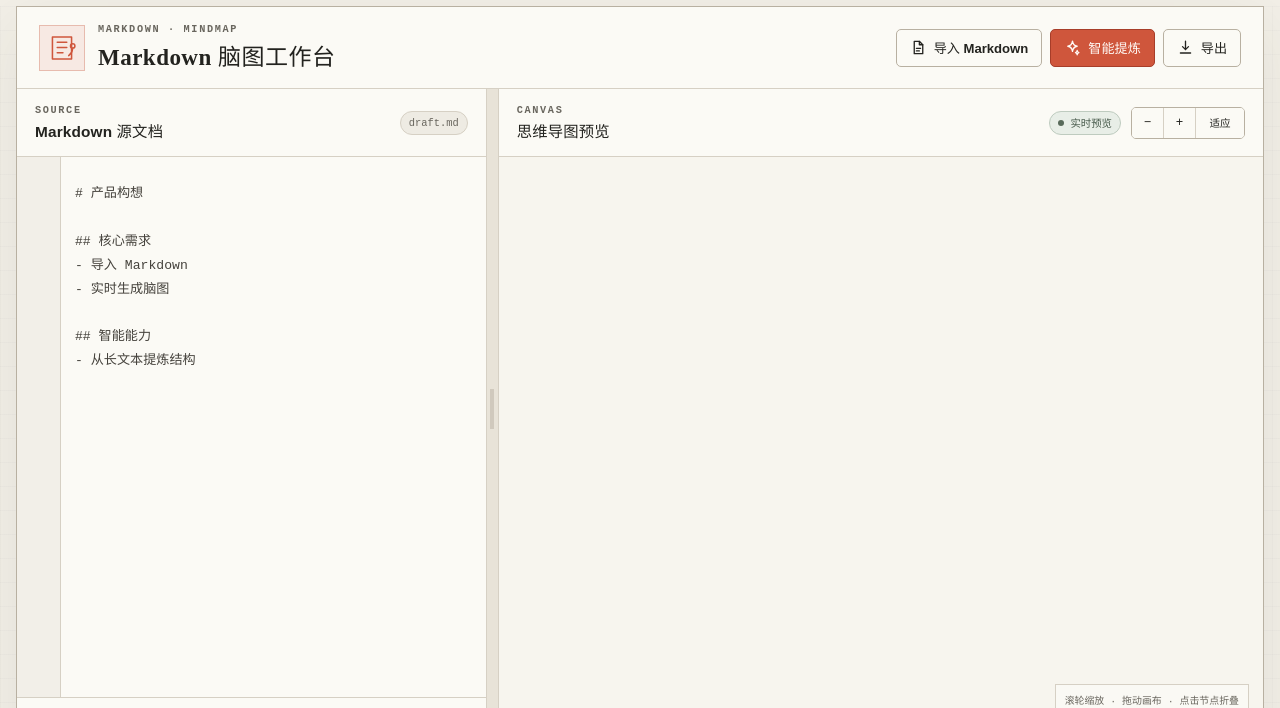
应用工作台 › 将当前原文导出为 Markdown 文件
The image size is (1280, 708).
Step 1. Replace the text in the text box named "Markdown 编辑器" with "# 待导出的内容" → {"x": 251, "y": 427}, box left=17, top=157, right=486, bottom=697
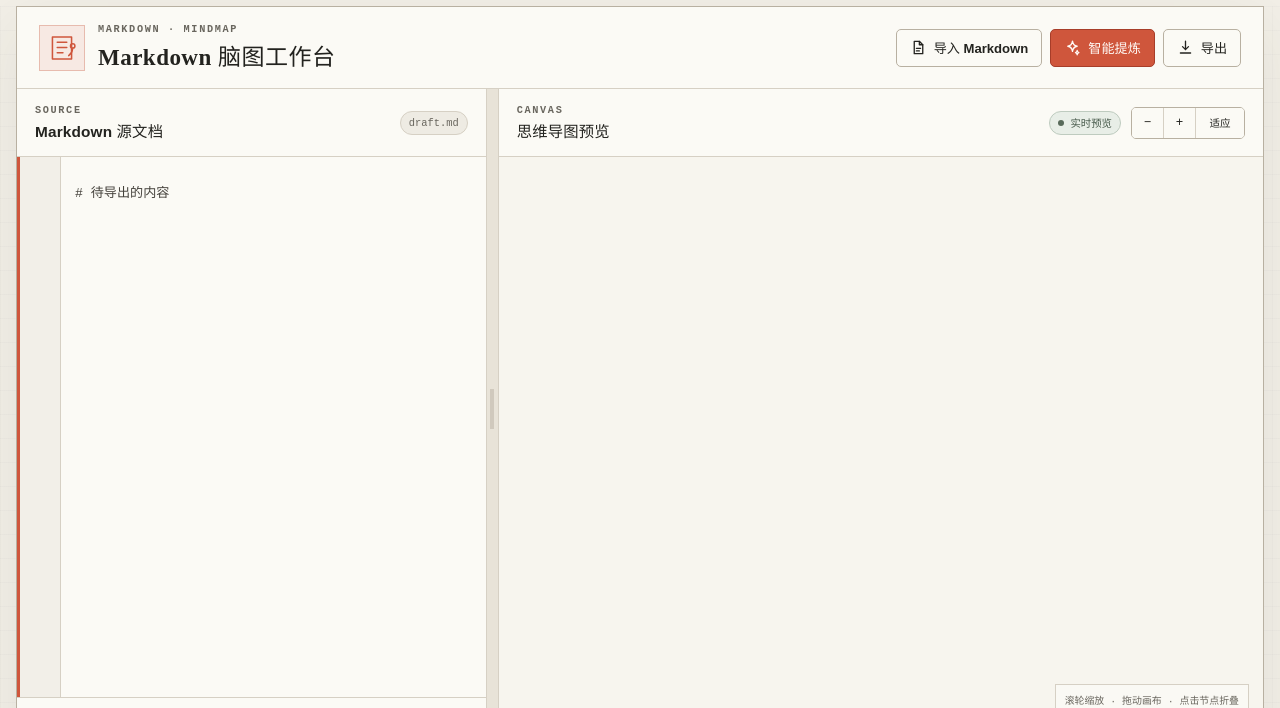
Step 2. Click the button "导出" → {"x": 1202, "y": 48}, box left=1163, top=28, right=1241, bottom=66
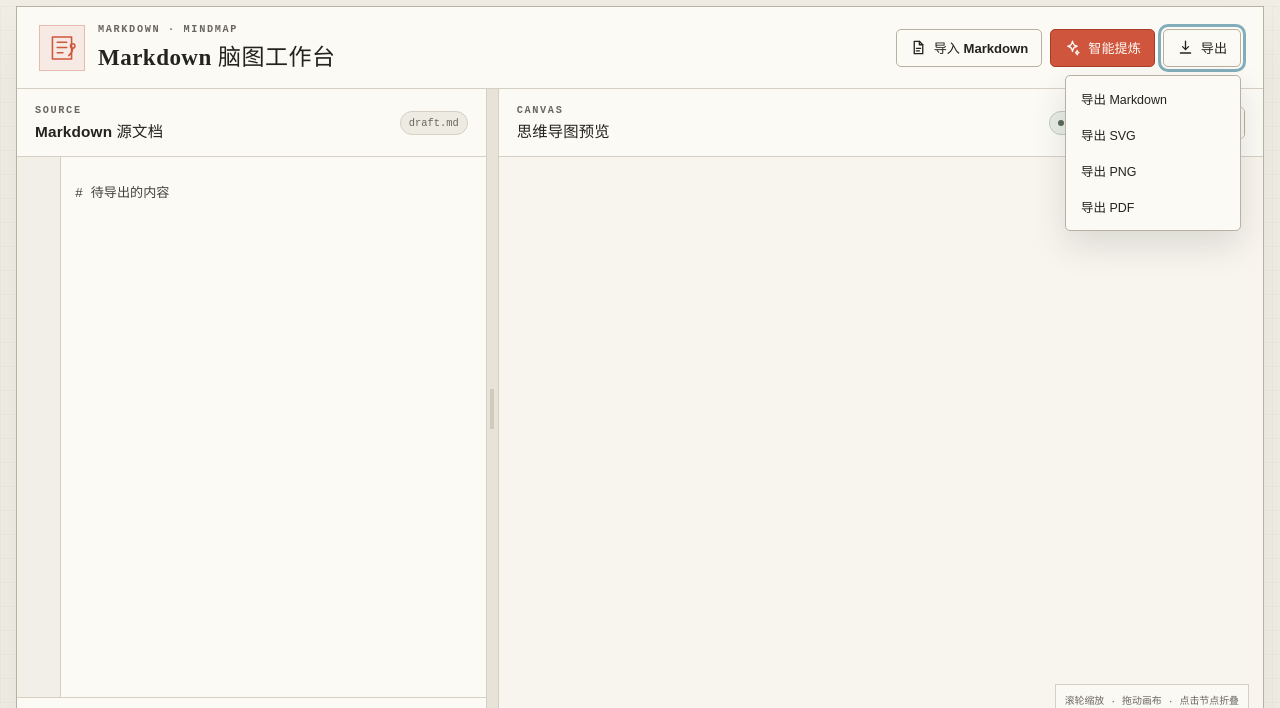
Step 3. Click the menu item "导出 Markdown" → {"x": 1153, "y": 98}, box left=1071, top=80, right=1235, bottom=116
(page scrolled)
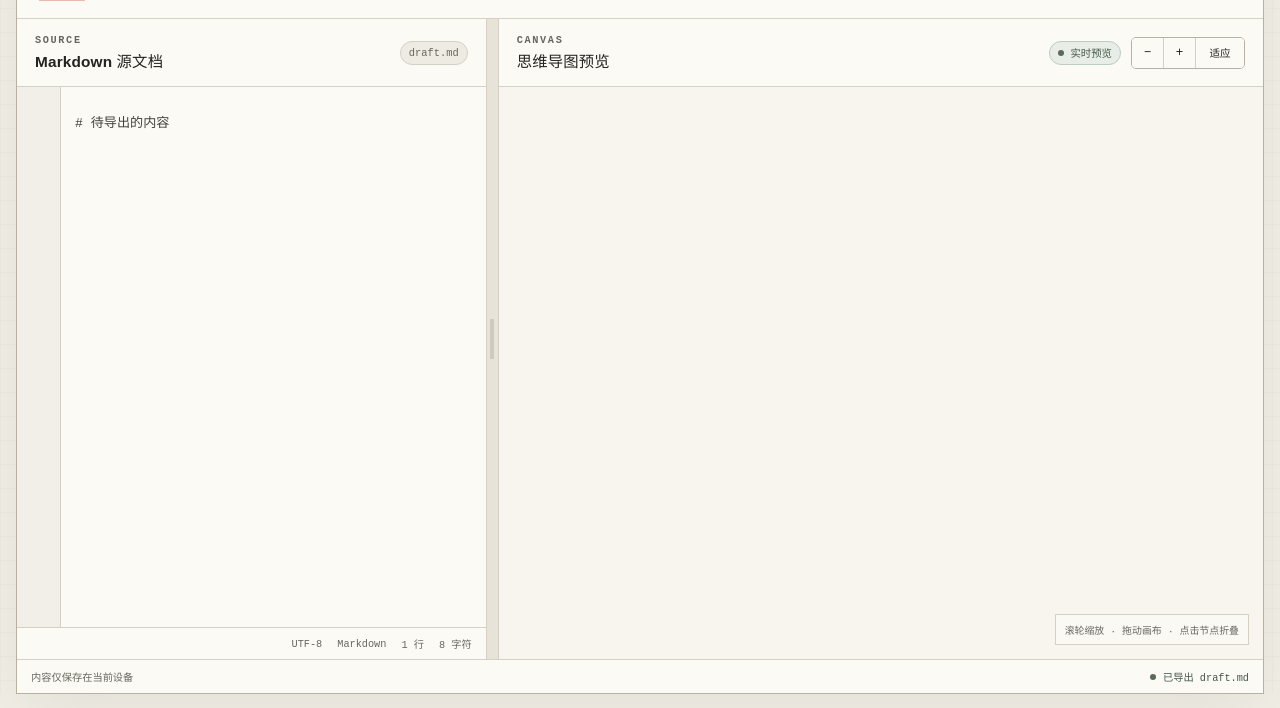
Expected: the text "draft.md" is shown, left=400, top=40, right=468, bottom=64
Now the message reads "已导出 draft.md", box left=1163, top=672, right=1249, bottom=684
